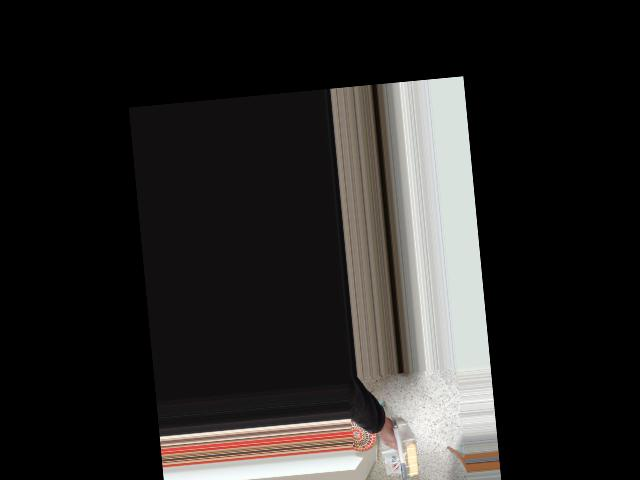cheese: (379, 418, 426, 480)
